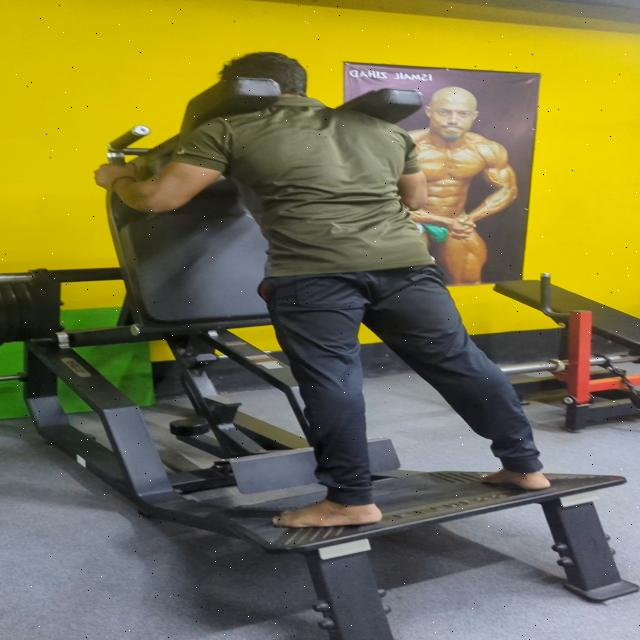Normal_SquatsWithBarbell: (0, 29, 613, 587)
